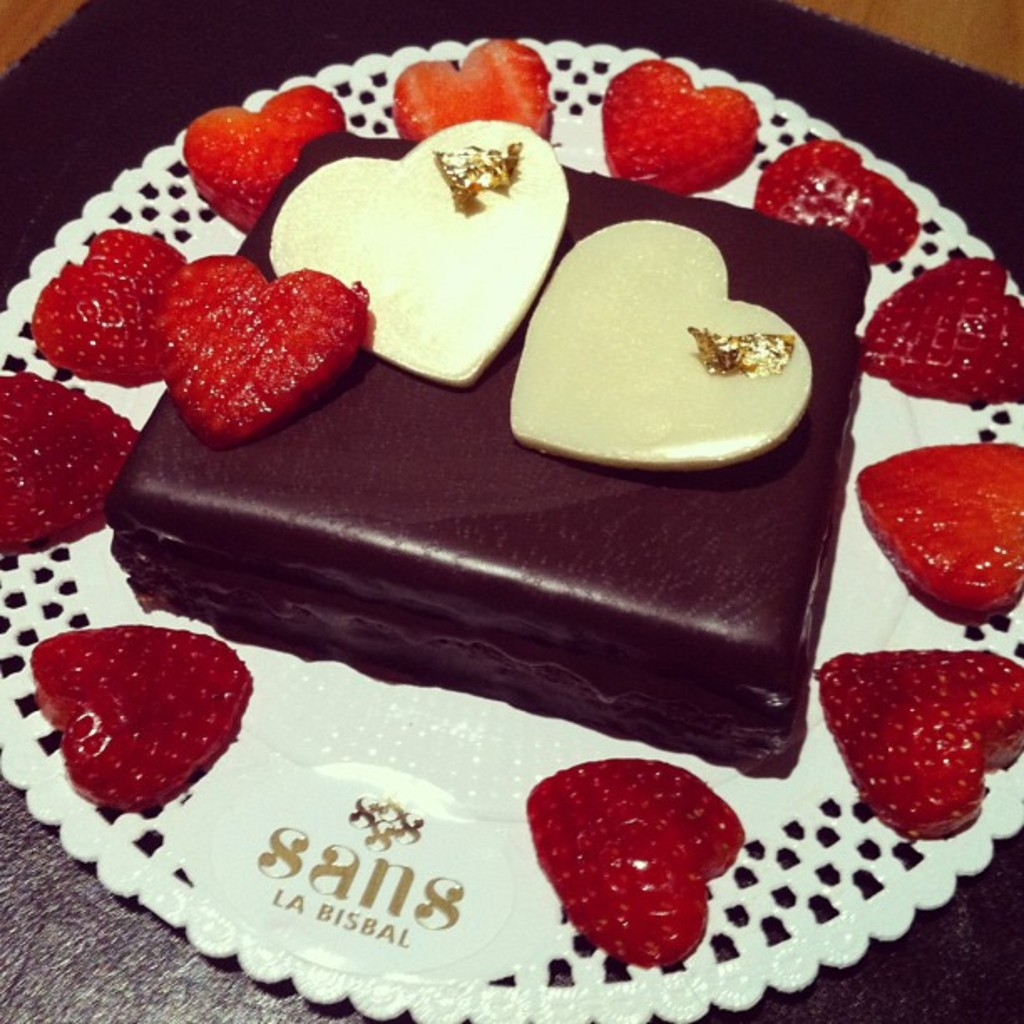cake: (97, 122, 875, 791)
